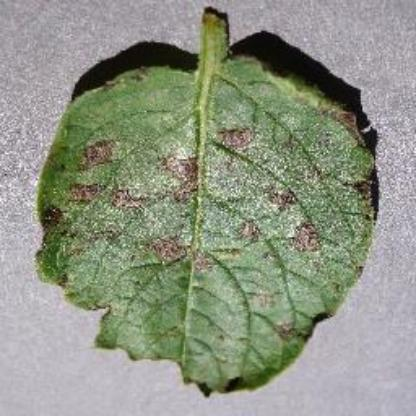Early-Blight: (29, 6, 381, 396)
